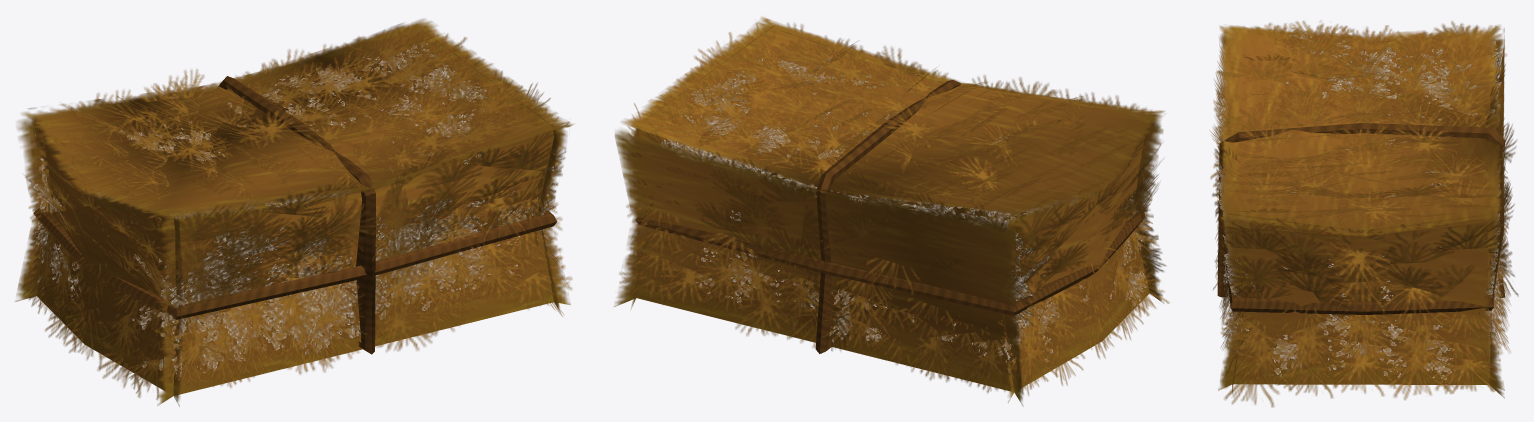
The model's file is haystackV1.glb.
3 renders of one model, left to right at view 1: azimuth 30°, elevation 25°; view 2: azimuth 150°, elevation 25°; view 3: azimuth 270°, elevation 25°, orthographic. The views are drawn at different scales.
Visible parts, largest first — view 1: haystack1_Default_Material_0; view 2: haystack1_Default_Material_0; view 3: haystack1_Default_Material_0.
Boxes of the visible parts, x1,y1,x2,y2 form: haystack1_Default_Material_0: [15, 19, 573, 406]; haystack1_Default_Material_0: [614, 17, 1169, 406]; haystack1_Default_Material_0: [1210, 20, 1518, 407].
Size of the model in its own units: 0.1055 by 0.0485 by 0.0659.
Materials: 1 (1 with a texture image).
